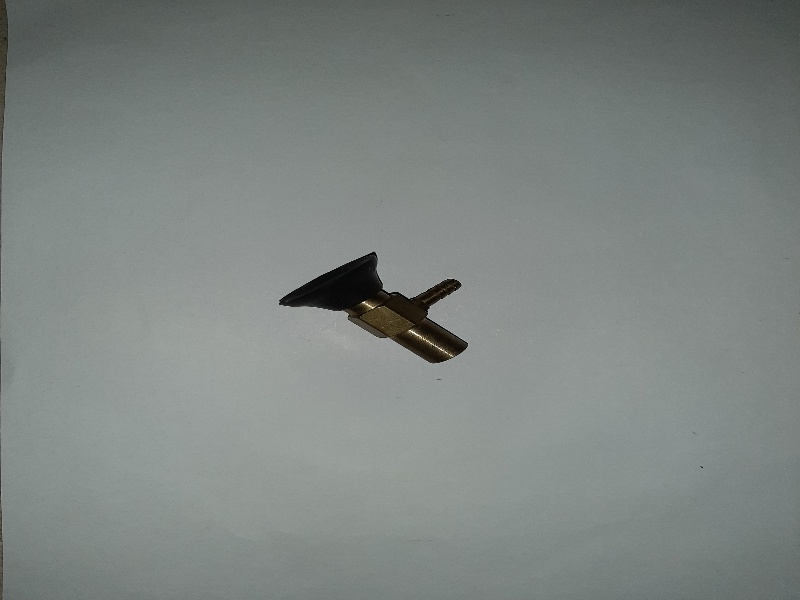Joint Hold: (274, 244, 476, 370)
